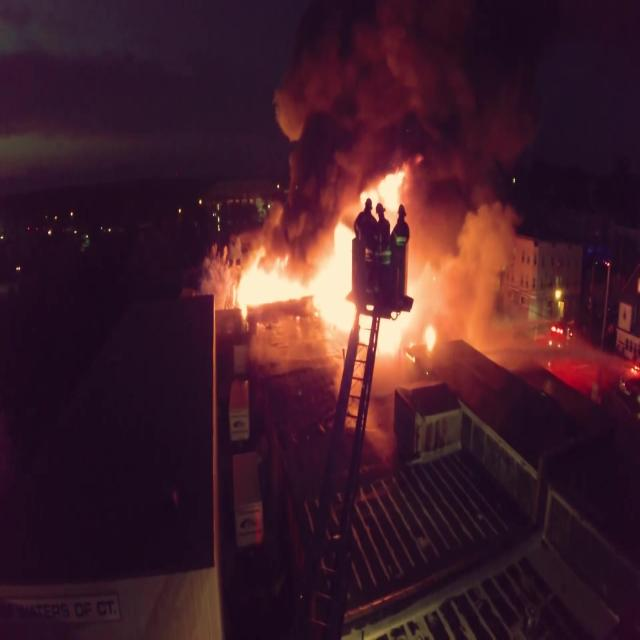Fire: (226, 165, 454, 353)
Smoke: (226, 0, 543, 331)
